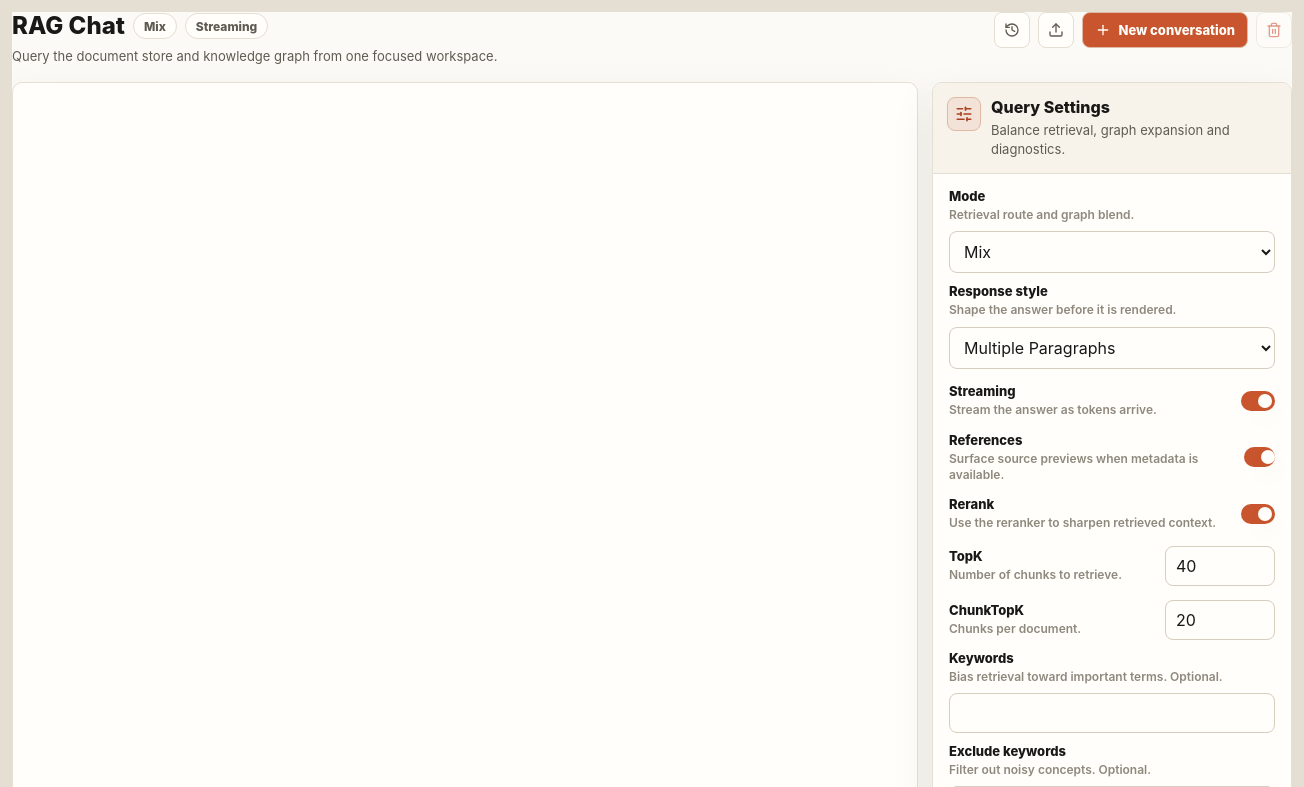
Test: RagChatWorkbench › disables retrieval controls in bypass mode
Select "Bypass" in the dropdown labelled "Mode Retrieval route and graph blend." at (1112, 252), box [949,231,1275,273]
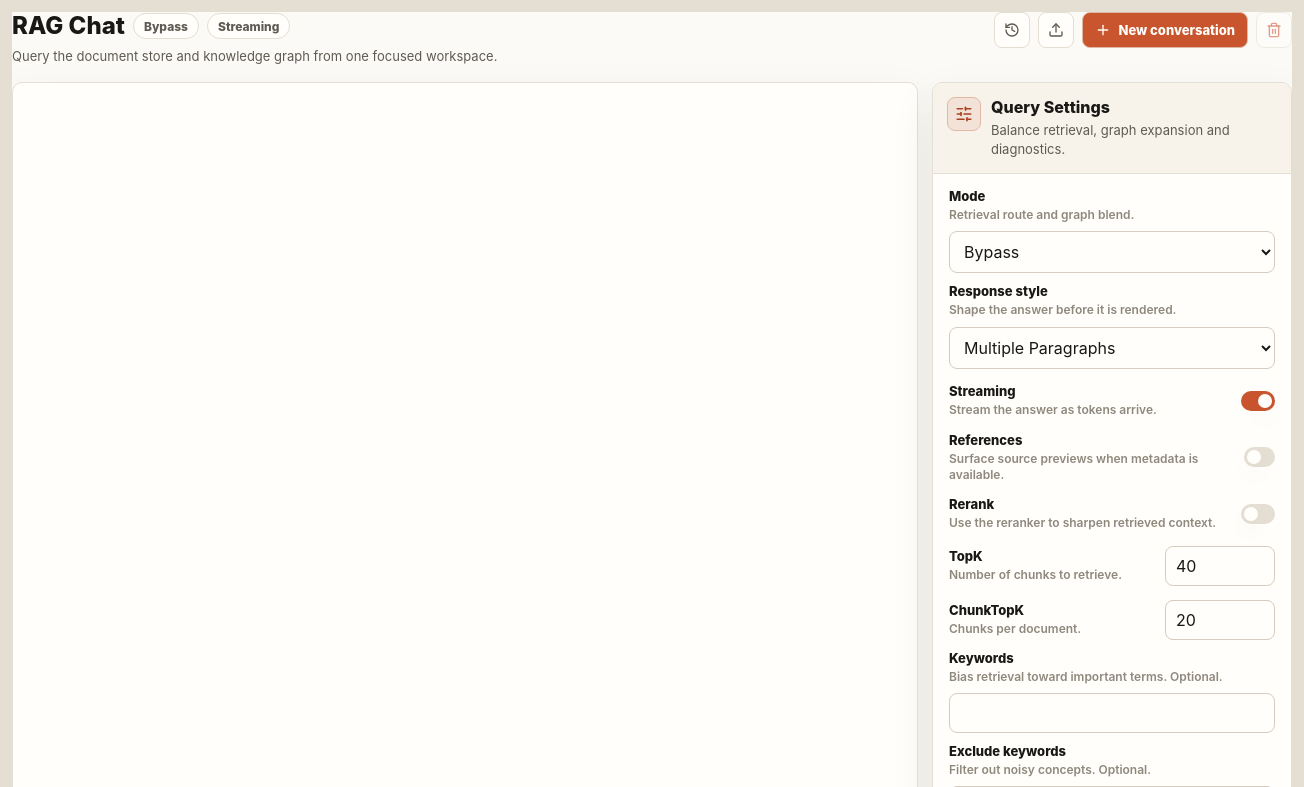
Result: the checkbox named "References" is disabled at [947,430,1277,484]
